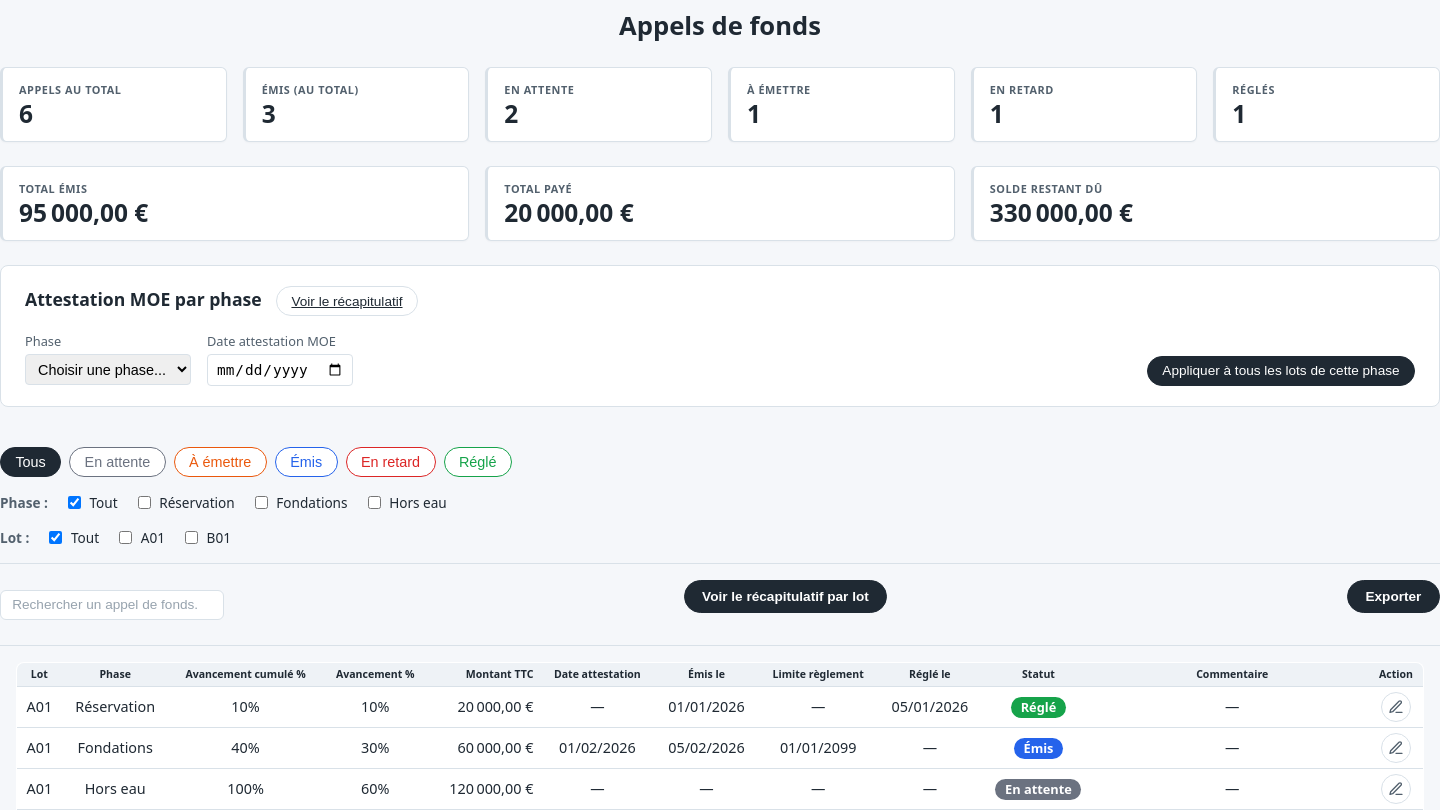
Test: AppelsDeFonds — filtres › filtre par phase (multi)
Click the checkbox labelled "Réservation": (144, 503) x1=138 y1=496 x2=151 y2=509
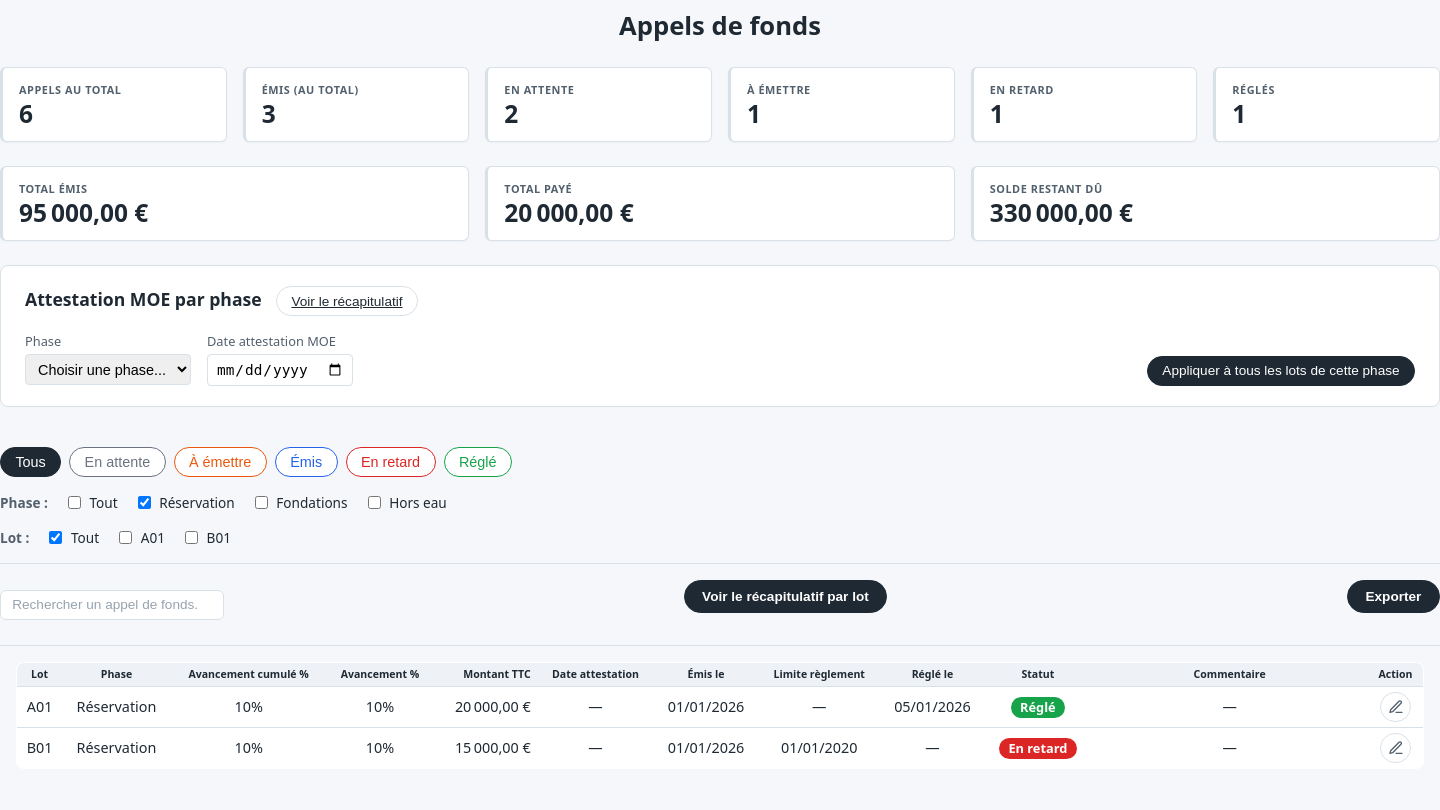
Now the text "Réservation" is shown 2 times, box x1=62 y1=687 x2=171 y2=728; x1=62 y1=728 x2=171 y2=769
